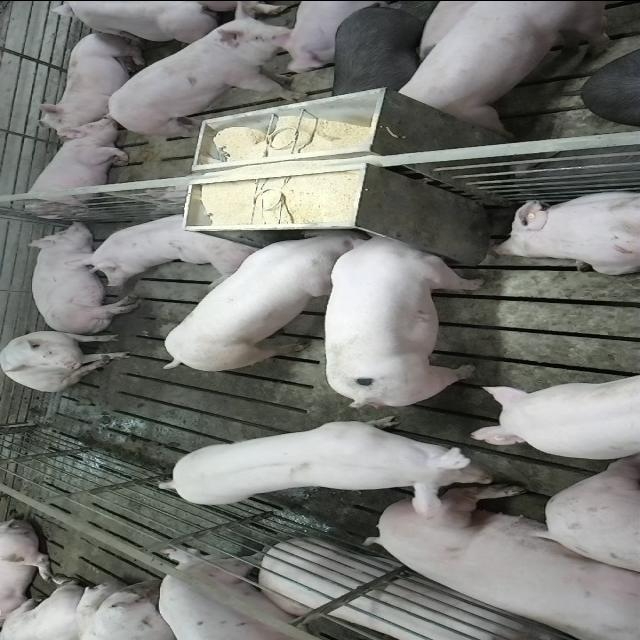Feeding: (160, 228, 370, 376), (322, 231, 484, 412)
Lateral_lying: (367, 477, 640, 636), (258, 539, 586, 640), (24, 220, 140, 334)
Sitting: (1, 328, 134, 391)
Standing: (155, 418, 488, 509), (393, 1, 617, 133), (109, 8, 313, 138), (162, 546, 345, 640), (469, 371, 640, 463), (328, 3, 438, 100)
Sternal_lying: (73, 208, 260, 284), (490, 187, 640, 274), (35, 30, 149, 134), (16, 124, 132, 216)
